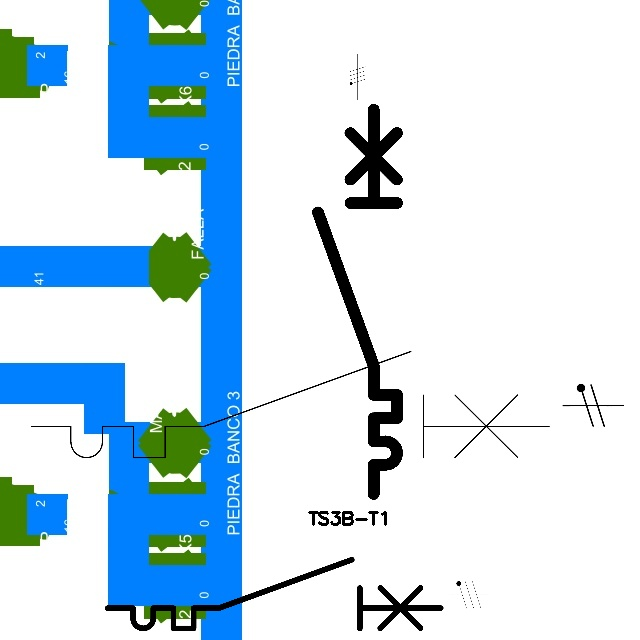interruptor_termomagnetico: (18, 338, 562, 471), (308, 99, 407, 503), (99, 551, 449, 637)
